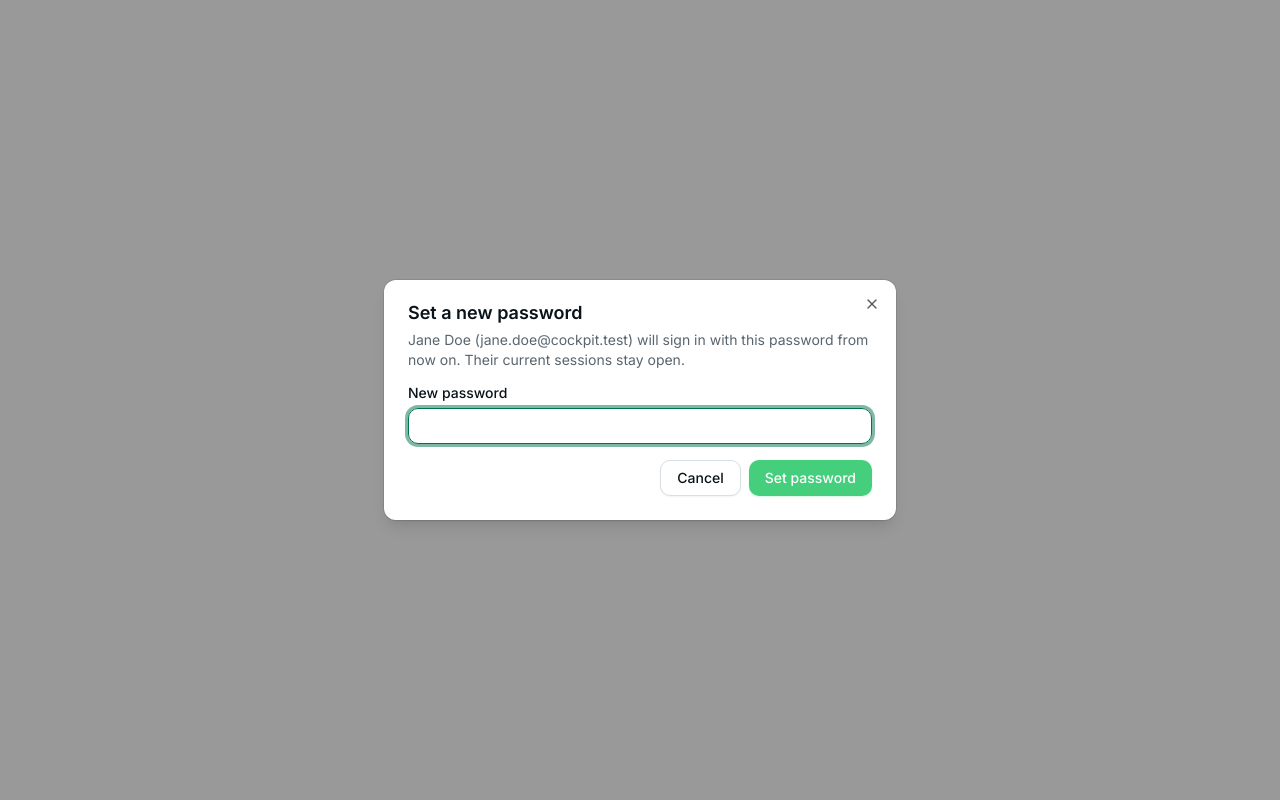
Test: UserPasswordDialog › reports too short a password through the form, and refuses to submit it
This screenshot has width=1280, height=800.
Type "short" into the password field labelled "New password". click: (640, 426)
box: [408,408,872,444]
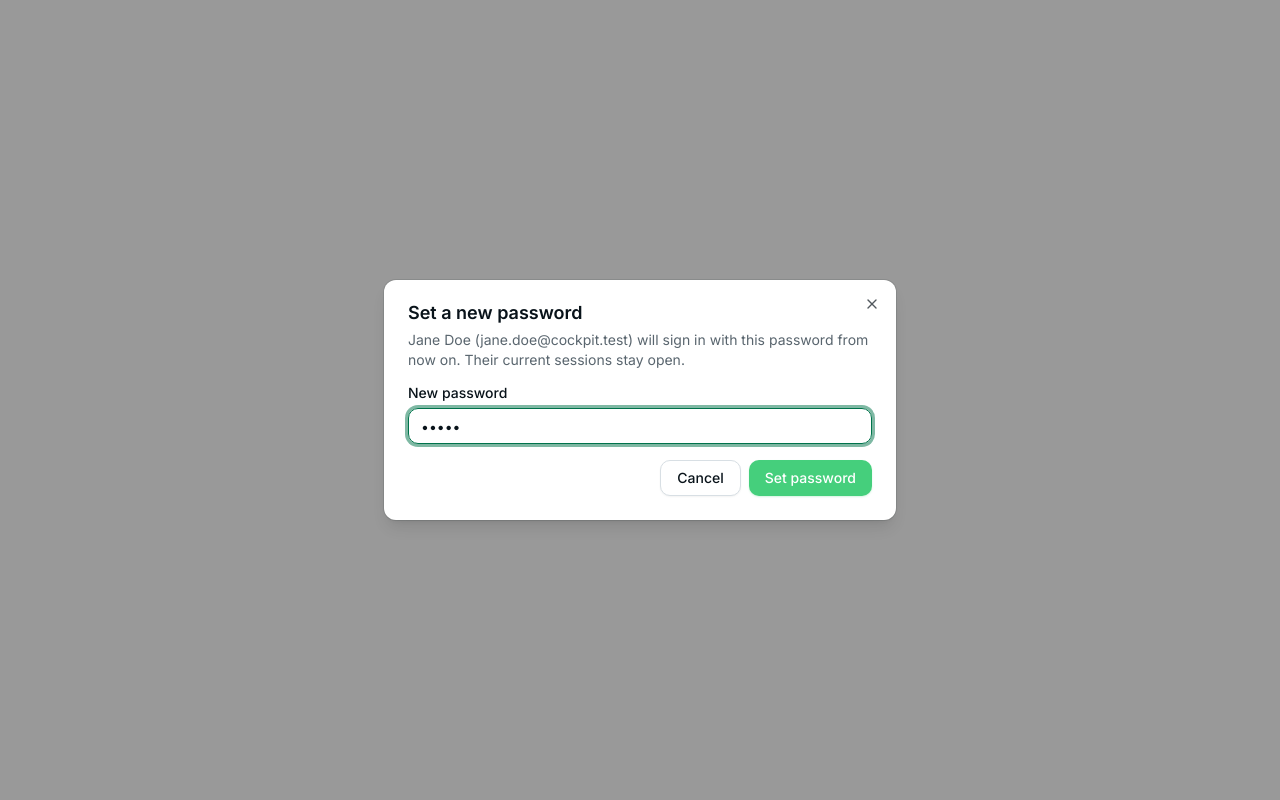
Click the button "Set password". click: click(810, 478)
box: [749,460,872,496]
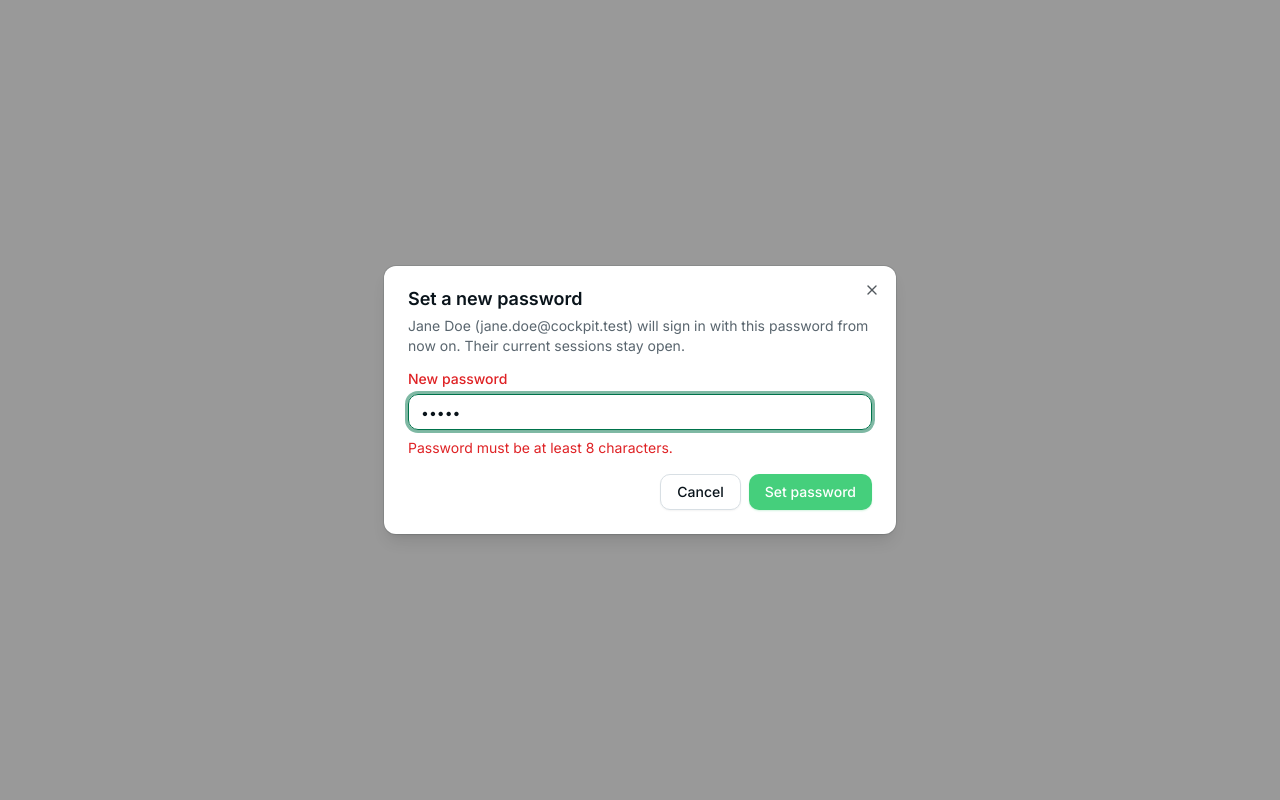
Now the text "Password must be at least 8 characters." is shown, box [408,439,673,456]
